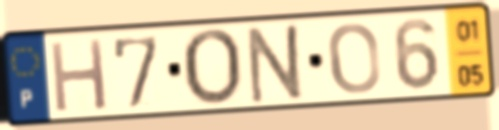6: (390, 15, 440, 94)
7: (110, 32, 161, 111)
H: (47, 35, 111, 116)
N: (245, 20, 309, 107)
O: (178, 26, 244, 109), (325, 20, 384, 97)
